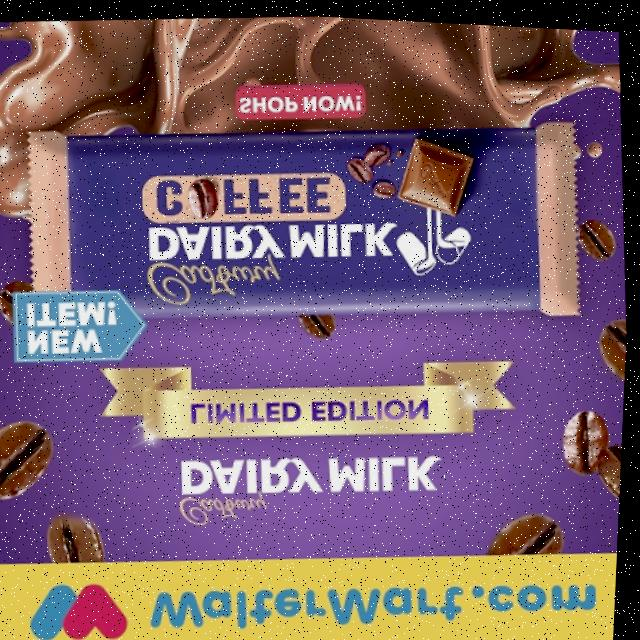cadbury: (27, 100, 587, 339)
